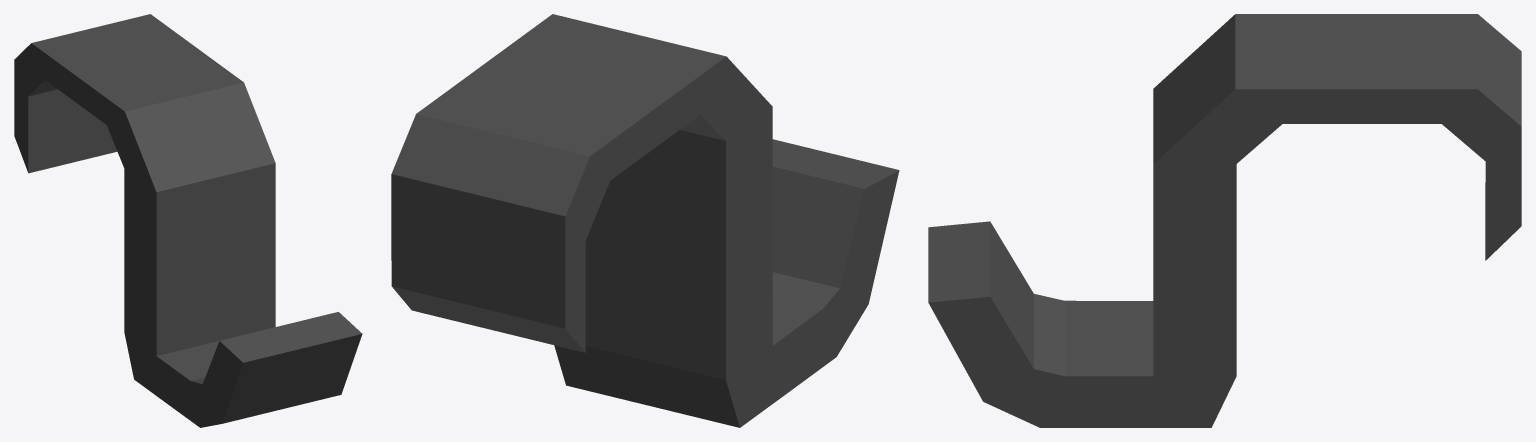
The model's file is hook_for_spit.fbx.
3 views of the same model, side by side, from view 1: azimuth 30°, elevation 25°; view 2: azimuth 150°, elevation 25°; view 3: azimuth 270°, elevation 25° (orthographic). The views are drawn at different scales.
Parts seen in each view (by area): view 1: hook; view 2: hook; view 3: hook.
Boxes of the visible parts, box(x1,y1,x2,y2) form: hook: box(14, 14, 362, 427); hook: box(391, 14, 899, 427); hook: box(928, 14, 1521, 427).
Size of the model in its own units: 3.58 by 7.5 by 11.92.
